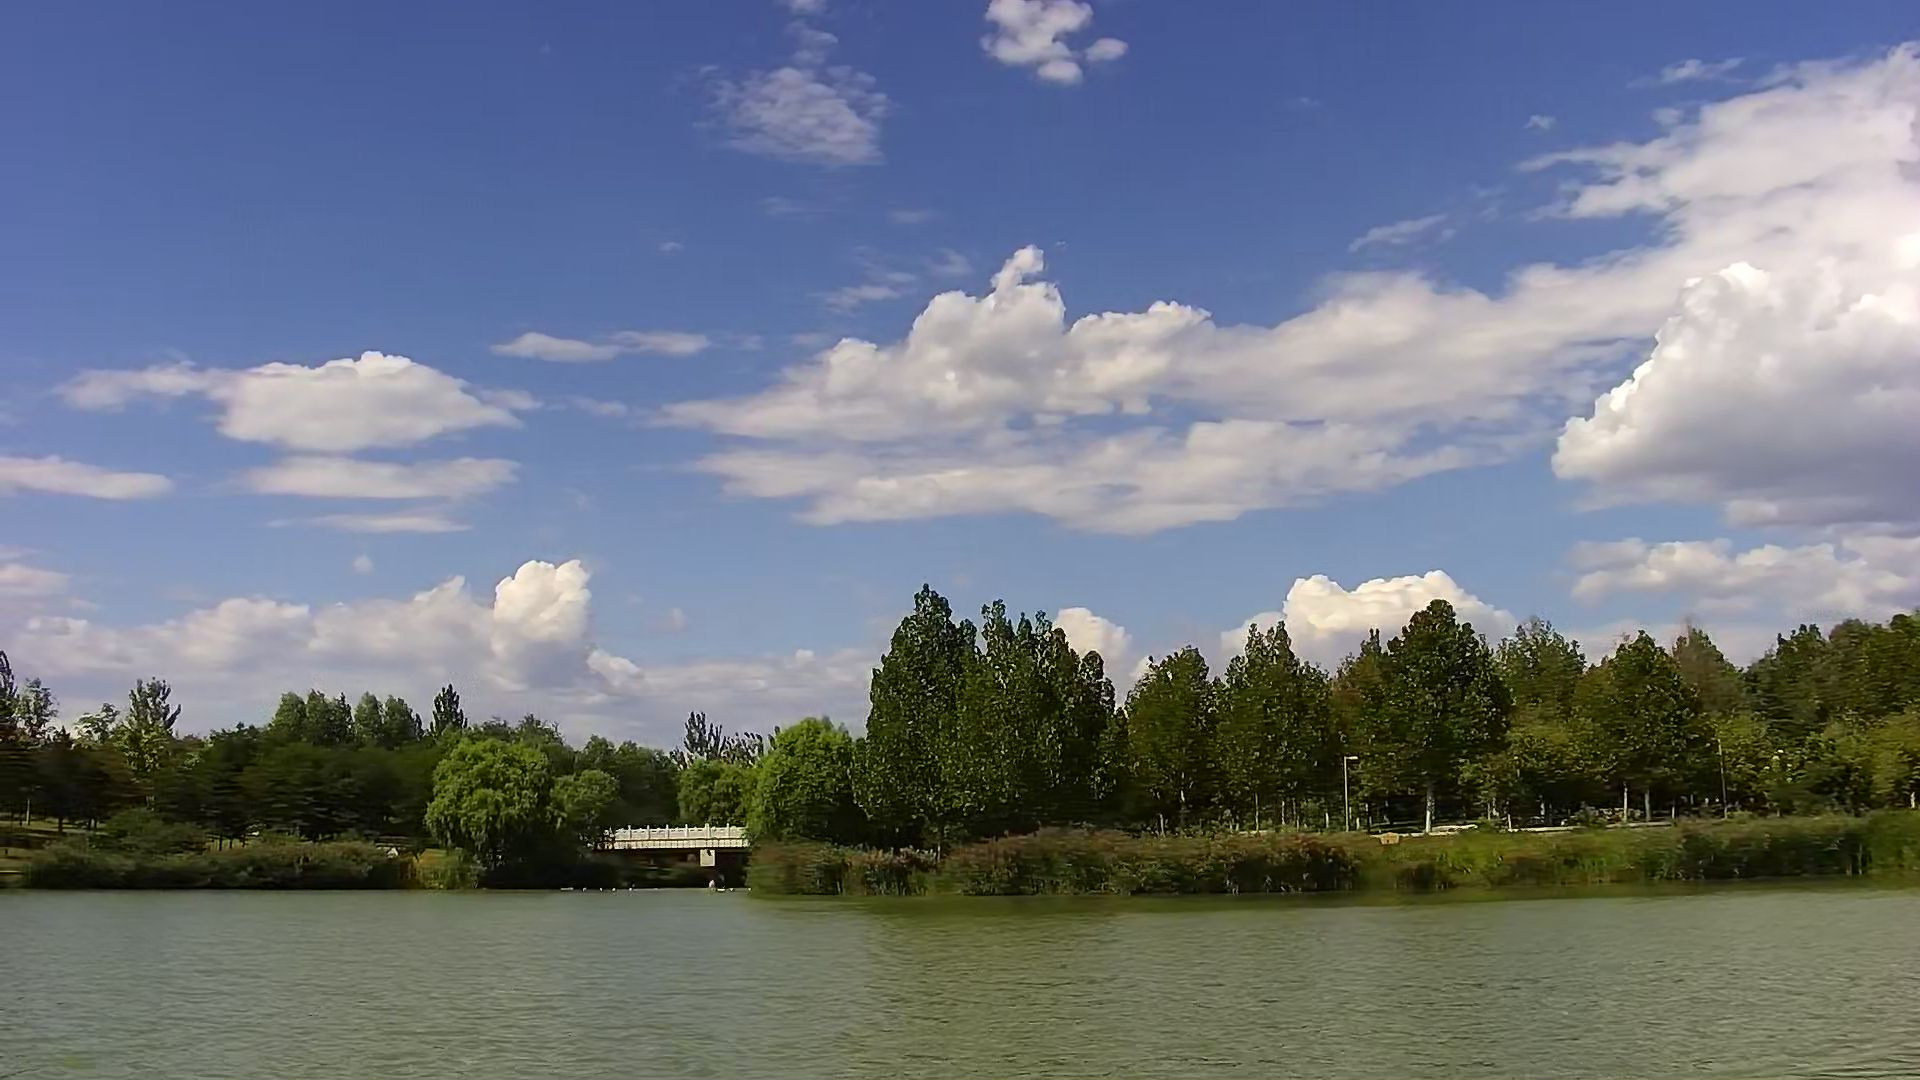bridge: (616, 822, 750, 885)
